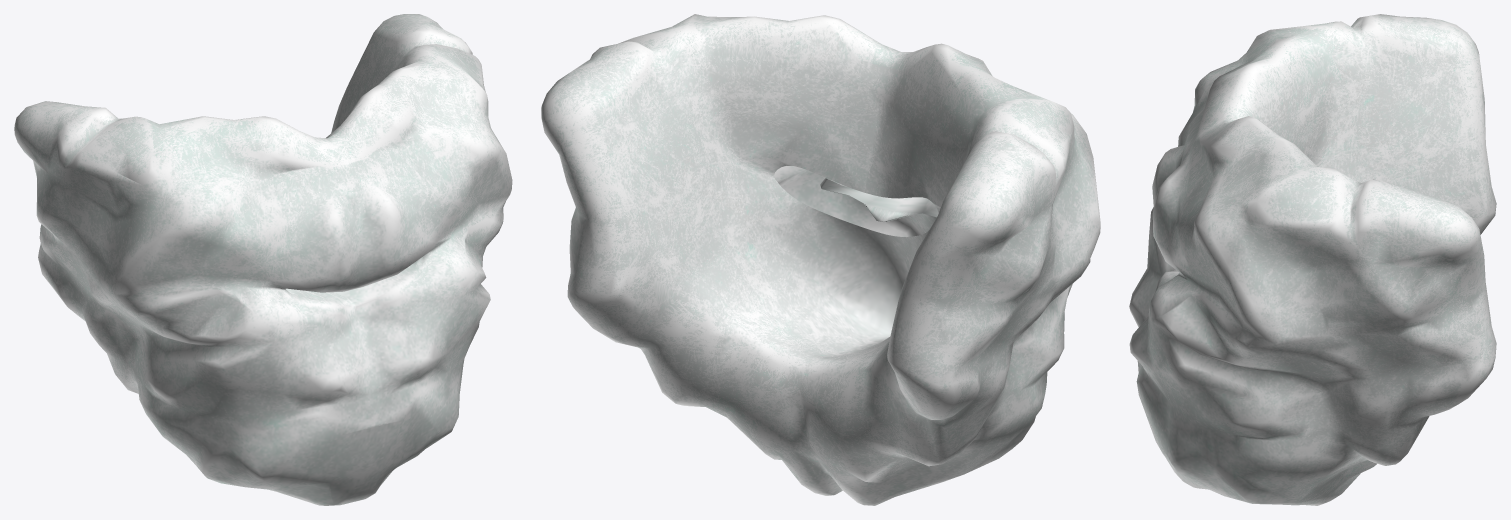
The model's file is Shavingfoam.fbx.
The picture shows the model from 3 angles, left to right: view 1: azimuth 30°, elevation 25°; view 2: azimuth 150°, elevation 25°; view 3: azimuth 270°, elevation 25°; orthographic projection. The views are drawn at different scales.
Parts seen in each view (by area): view 1: ShavingfoamL; view 2: ShavingfoamL; view 3: ShavingfoamL.
Boxes of the visible parts, x1,y1,x2,y2 form: ShavingfoamL: [14, 14, 512, 505]; ShavingfoamL: [541, 14, 1100, 505]; ShavingfoamL: [1129, 14, 1496, 505].
Bounding box in the file's own units: 27.48 × 24.75 × 20.38.
